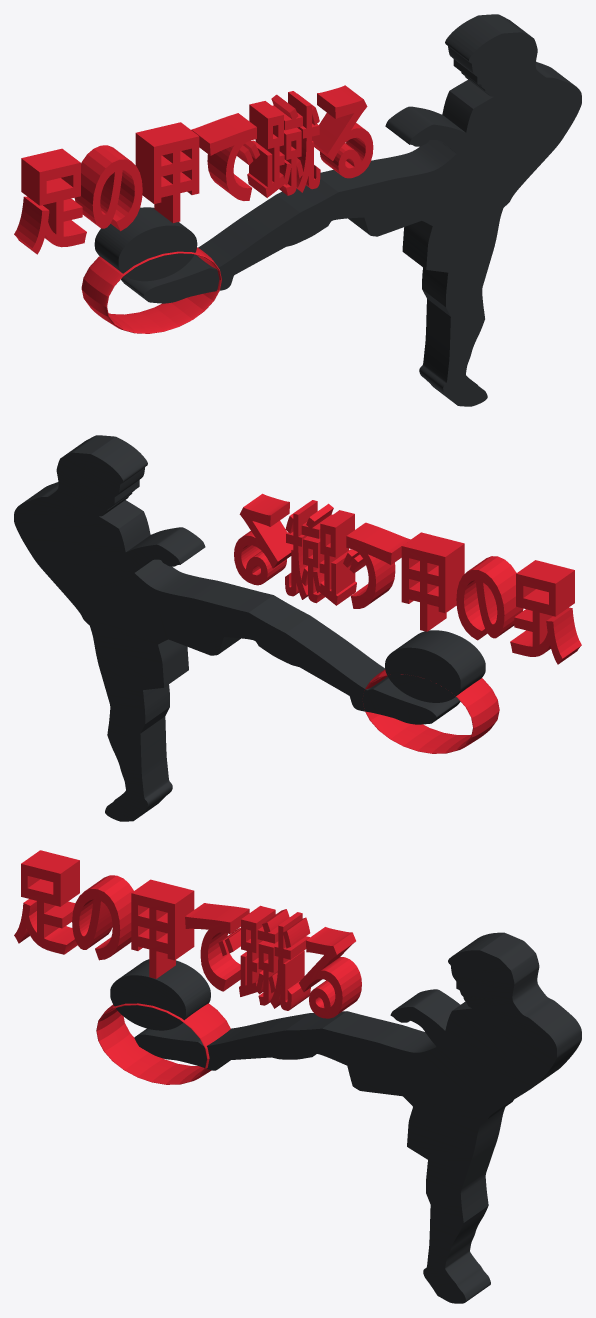
The model's file is tinker.obj.
3 renders of one model, top to bottom at view 1: azimuth 30°, elevation 25°; view 2: azimuth 150°, elevation 25°; view 3: azimuth 330°, elevation 25°, orthographic.
Visible parts, largest first — view 1: group_0_2829873, group_0_15277357; view 2: group_0_2829873, group_0_15277357; view 3: group_0_2829873, group_0_15277357.
Boxes of the visible parts, x1=… form: group_0_2829873: x1=94, y1=14, x2=581, y2=406; group_0_15277357: x1=14, y1=85, x2=373, y2=333; group_0_2829873: x1=14, y1=435, x2=485, y2=821; group_0_15277357: x1=234, y1=493, x2=581, y2=753; group_0_2829873: x1=110, y1=932, x2=581, y2=1303; group_0_15277357: x1=14, y1=850, x2=361, y2=1084.
Bounding box in the file's own units: 63.1 × 40 × 6.74.
